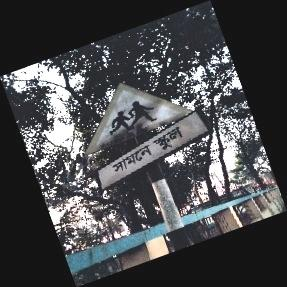School-in-front: (89, 84, 210, 191)
